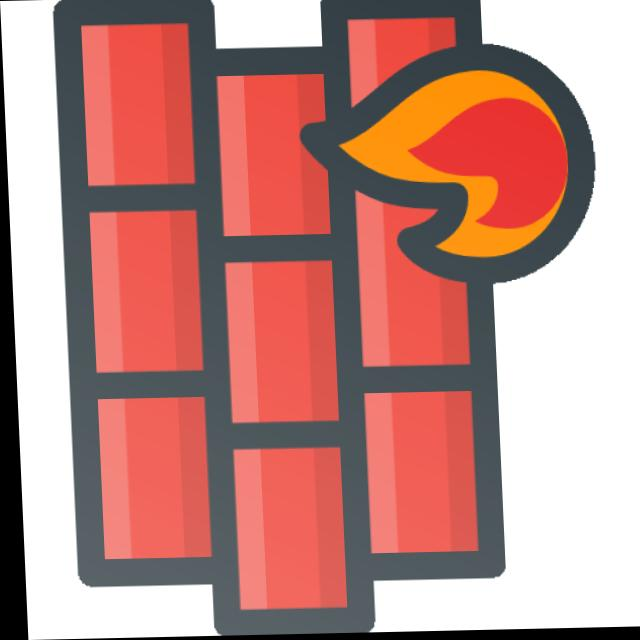Firewall: (0, 0, 637, 636)
